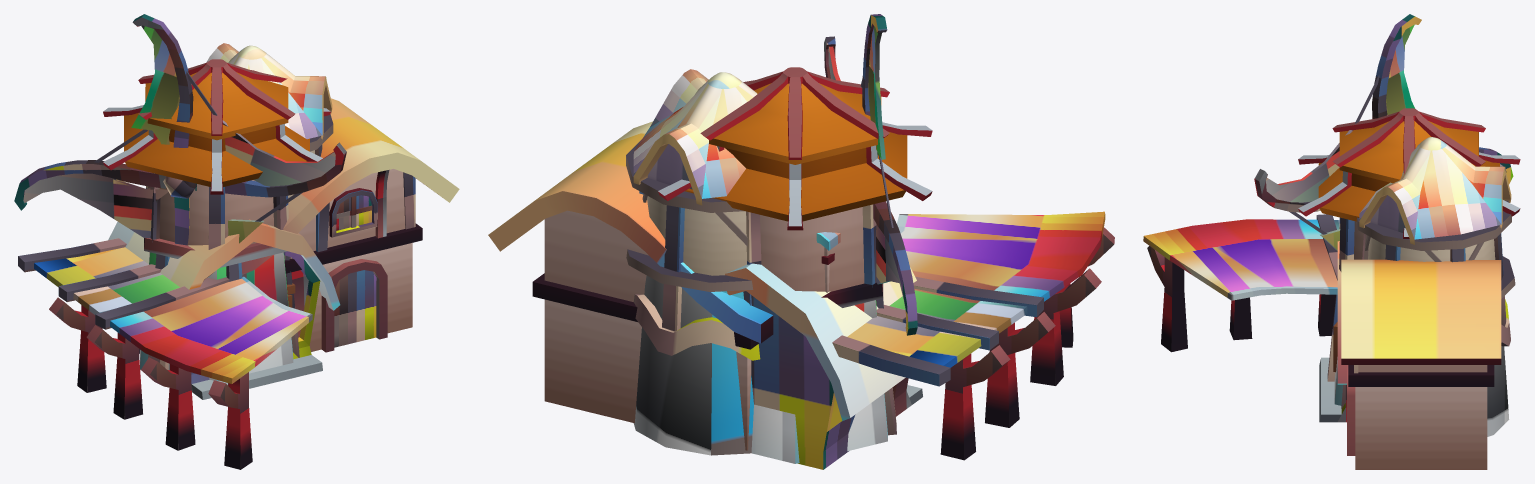
Rendered from house.fbx.
3 views of the same model, side by side, from view 1: azimuth 30°, elevation 25°; view 2: azimuth 150°, elevation 25°; view 3: azimuth 270°, elevation 25° (orthographic). The views are drawn at different scales.
Parts seen in each view (by area): view 1: house; view 2: house; view 3: house.
Part boxes in pixels (x1,y1,x2,y2): house: (14,14,459,469); house: (488,14,1114,469); house: (1143,14,1520,469).
Size of the model in its own units: 91.91 by 81.88 by 81.32.
1 material, 1 textured.
